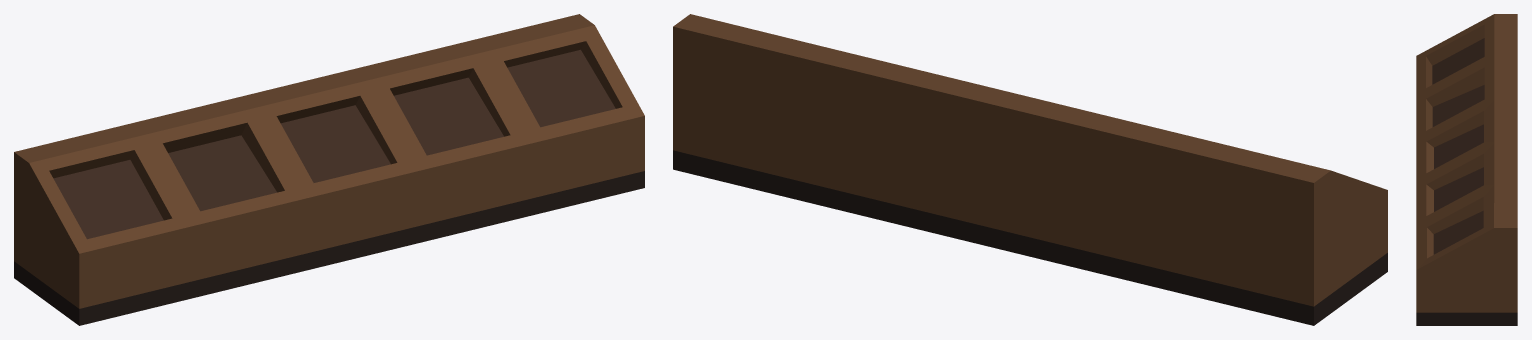
The model's file is bacsBois_x5.fbx.
3 views of the same model, side by side, from view 1: azimuth 30°, elevation 25°; view 2: azimuth 150°, elevation 25°; view 3: azimuth 270°, elevation 25° (orthographic). The views are drawn at different scales.
Visible parts, largest first — view 1: Cube.014; view 2: Cube.014; view 3: Cube.014.
Boxes of the visible parts, bbox=[...] form: Cube.014: bbox=[14, 14, 644, 325]; Cube.014: bbox=[673, 14, 1387, 325]; Cube.014: bbox=[1416, 14, 1517, 325].
Bounding box in the file's own units: 500 × 107 × 100.
